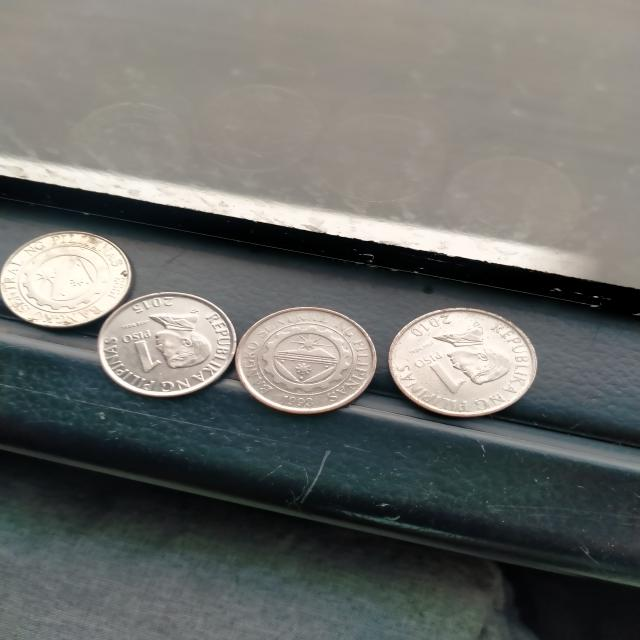1_Old_Back: (252, 318, 356, 400), (11, 243, 116, 320)
